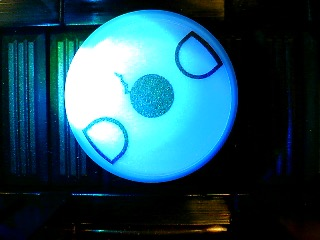CRACK: (64, 9, 238, 184)
